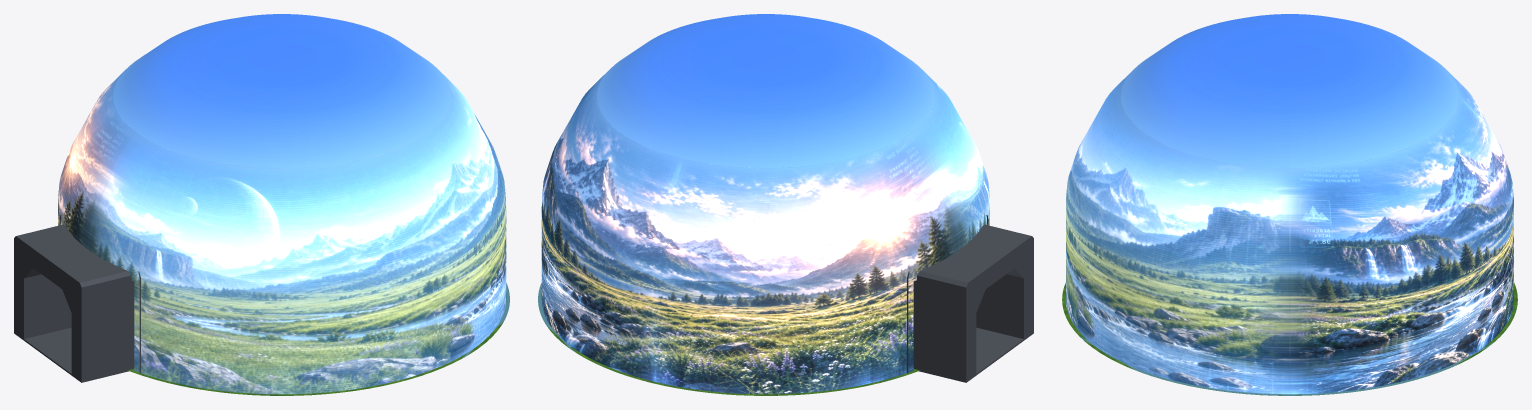
Rendered from terra.glb.
The picture shows the model from 3 angles, left to right: view 1: azimuth 30°, elevation 25°; view 2: azimuth 150°, elevation 25°; view 3: azimuth 270°, elevation 25°; orthographic projection.
Visible parts, largest first — view 1: View2, SkyCap, Portal, View1, PortalSill, Lawn; view 2: View1, SkyCap, Portal, View2, PortalSill, Lawn; view 3: View2, View1, SkyCap, River, Lawn.
Boxes of the visible parts, x1,y1,x2,y2 form: View2: (88,71,506,394); SkyCap: (113,14,450,168); Portal: (14,215,140,382); View1: (58,70,135,249); PortalSill: (24,327,71,375); Lawn: (128,321,503,395); View1: (541,71,959,394); SkyCap: (597,14,934,168); Portal: (907,215,1033,382); View2: (912,70,989,249); PortalSill: (976,327,1023,375); Lawn: (547,326,919,395); View2: (1066,71,1289,394); View1: (1290,71,1513,394); SkyCap: (1121,14,1458,168); River: (1079,336,1493,395); Lawn: (1062,282,1517,395).
Size of what is drawn, in the model's own units: 19.9 by 10.99 by 18.2.
Materials: 18 (4 with a texture image).
